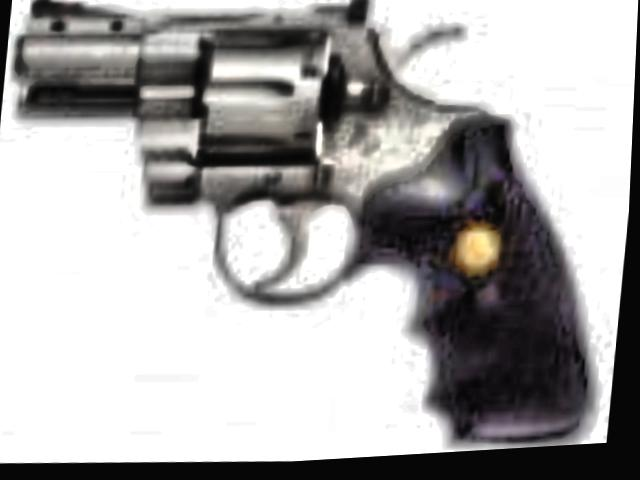pistol: (0, 0, 631, 479)
